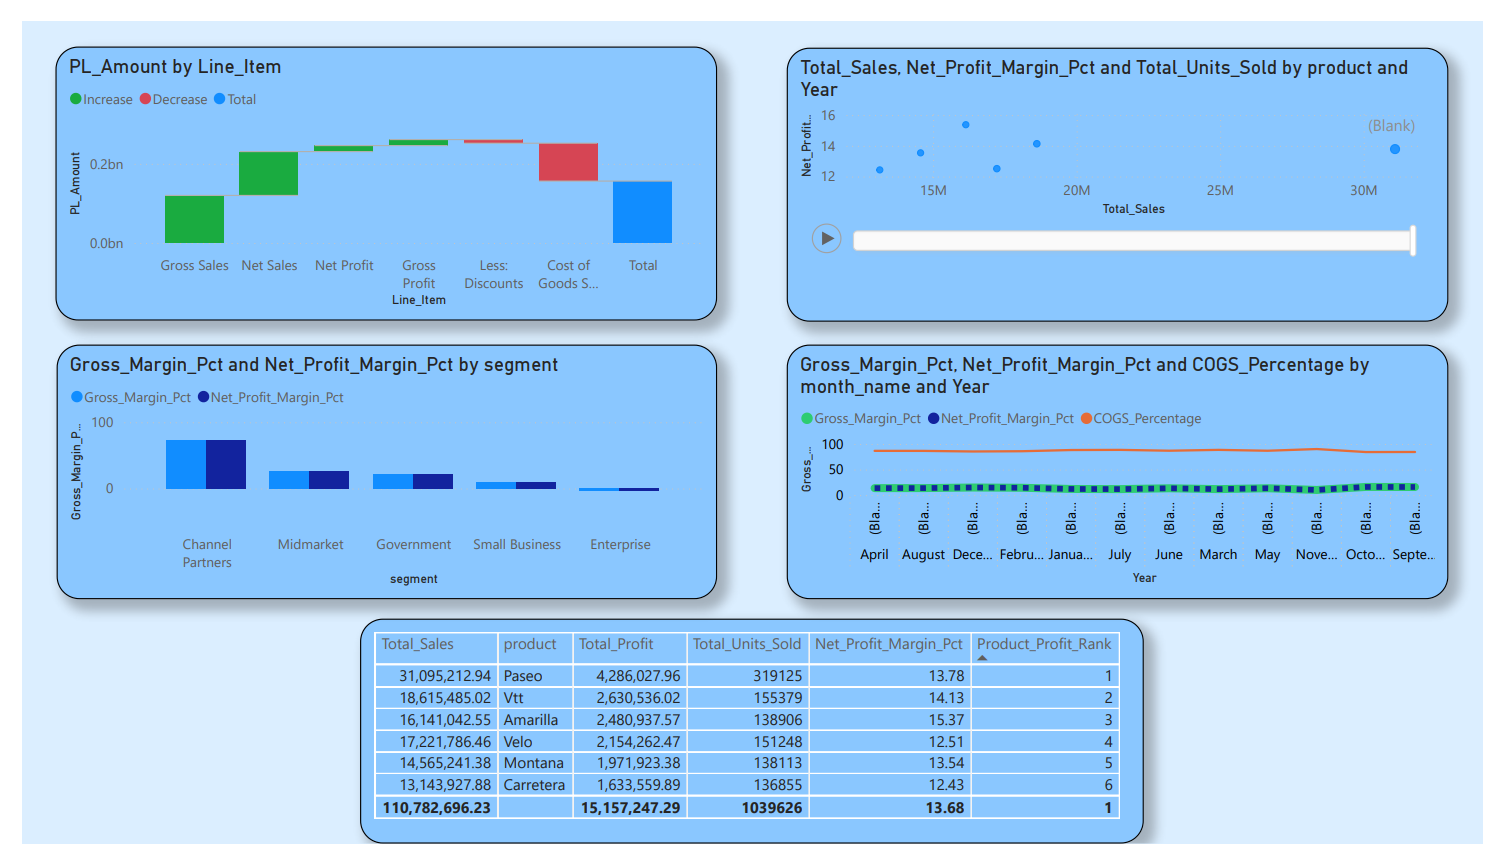

The dashboard page shown, as its layout file describes it:
{"tool":"powerbi","page":{"name":"Page 2","canvas":[1280,720],"ordinal":1},"visuals":[{"type":"waterfallChart","fields":{"Category":["PL_Line_Items.Line_Item"],"Y":["PL_Line_Items.PL_Amount"]},"box":[28.8,22,580.4,240.1],"z":0},{"type":"scatterChart","fields":{"Category":["financial_operations_db fact_sales.product"],"X":["_Measures.Total_Sales"],"Y":["_Financial_Ratios.Net_Profit_Margin_Pct"],"Size":["_Measures.Total_Units_Sold"],"Play":["Date_Dimension.Year"]},"box":[669.6,23.3,580.4,240.1],"z":1000},{"type":"clusteredColumnChart","fields":{"Category":["financial_operations_db fact_sales.segment"],"Y":["_Financial_Ratios.Gross_Margin_Pct","_Financial_Ratios.Net_Profit_Margin_Pct"]},"box":[30.2,282.7,579.1,223.7],"z":2000},{"type":"lineChart","fields":{"Category":["financial_operations_db fact_sales.month_name","Date_Dimension.Year"],"Y":["_Financial_Ratios.Gross_Margin_Pct","_Financial_Ratios.Net_Profit_Margin_Pct","_Financial_Ratios.COGS_Percentage"]},"box":[669.6,282.7,580.4,223.7],"z":3000},{"type":"tableEx","fields":{"Values":["_Measures.Total_Sales","financial_operations_db fact_sales.product","_Measures.Total_Profit","_Measures.Total_Units_Sold","_Financial_Ratios.Net_Profit_Margin_Pct","_Product_Analysis_Measures.Product_Profit_Rank"]},"box":[296.4,522.8,686.1,197.6],"z":4000}]}

Visuals, with their boxes in screenshot pixels (x1, y1, x2, y2), scaled from the page's 1280x720 canvas onto the 1505x866 screenshot:
waterfallChart - PL_Line_Items.Line_Item x PL_Line_Items.PL_Amount: 34, 26, 716, 315
scatterChart - financial_operations_db fact_sales.product x _Measures.Total_Sales: 787, 28, 1470, 317
clusteredColumnChart - financial_operations_db fact_sales.segment x _Financial_Ratios.Gross_Margin_Pct: 36, 340, 716, 609
lineChart - financial_operations_db fact_sales.month_name x Date_Dimension.Year: 787, 340, 1470, 609
tableEx - _Measures.Total_Sales x financial_operations_db fact_sales.product: 349, 629, 1155, 865
